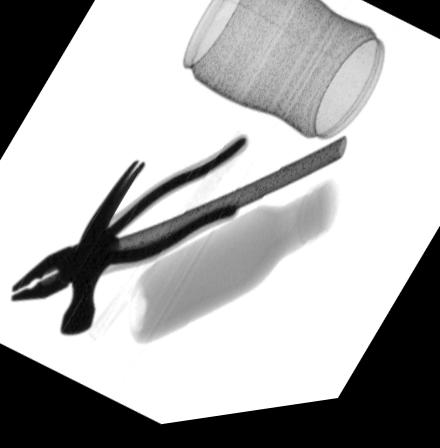Hammer: (59, 143, 347, 337)
Pliers: (8, 138, 247, 302)
